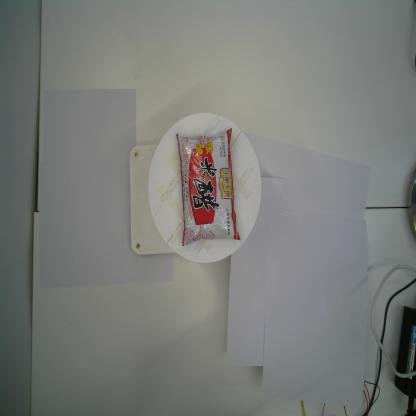Seasoner: (175, 127, 243, 249)
